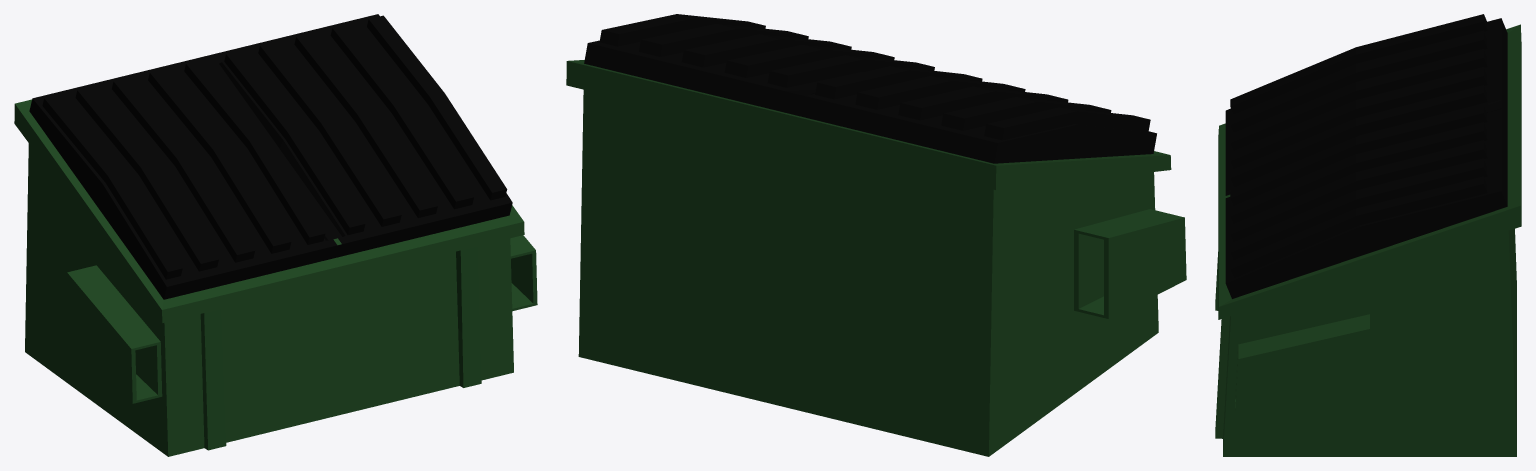
Rendered from Dumpster.fbx.
3 renders of one model, left to right at view 1: azimuth 30°, elevation 25°; view 2: azimuth 150°, elevation 25°; view 3: azimuth 270°, elevation 25°, orthographic. The views are drawn at different scales.
Parts seen in each view (by area): view 1: Dumpster; view 2: Dumpster; view 3: Dumpster.
Part boxes in pixels (left/top/right/bottom): Dumpster: left=14, top=14, right=537, bottom=456; Dumpster: left=566, top=14, right=1186, bottom=456; Dumpster: left=1215, top=14, right=1521, bottom=456.
Size of the model in its own units: 1694 by 1059 by 1083.
